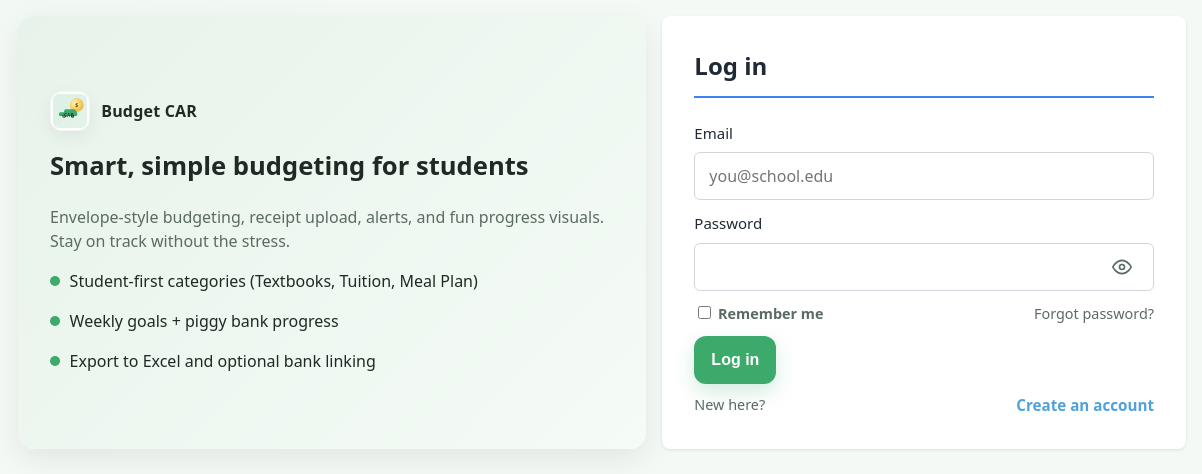
Test case: Authentication › Login Page › should toggle password visibility
Type "testpassword" into the password field named "password".
click(924, 267); type("testpassword")  # box [694, 243, 1154, 291]
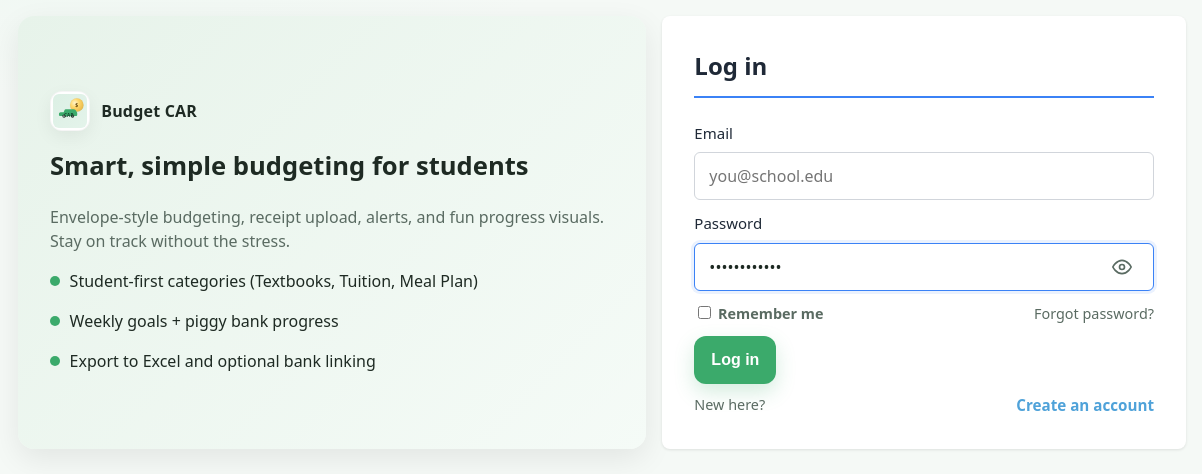
// Click toggle button
Click the button named "Show password".
click(1122, 267)  # box [1098, 243, 1146, 291]
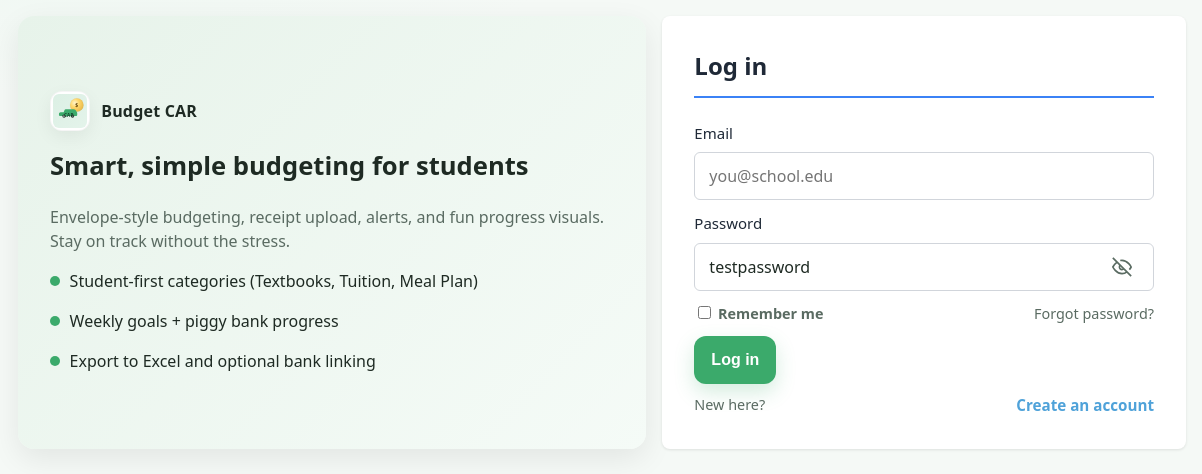
Expected: the field named "password" shows its text, [694, 243, 1154, 291]
